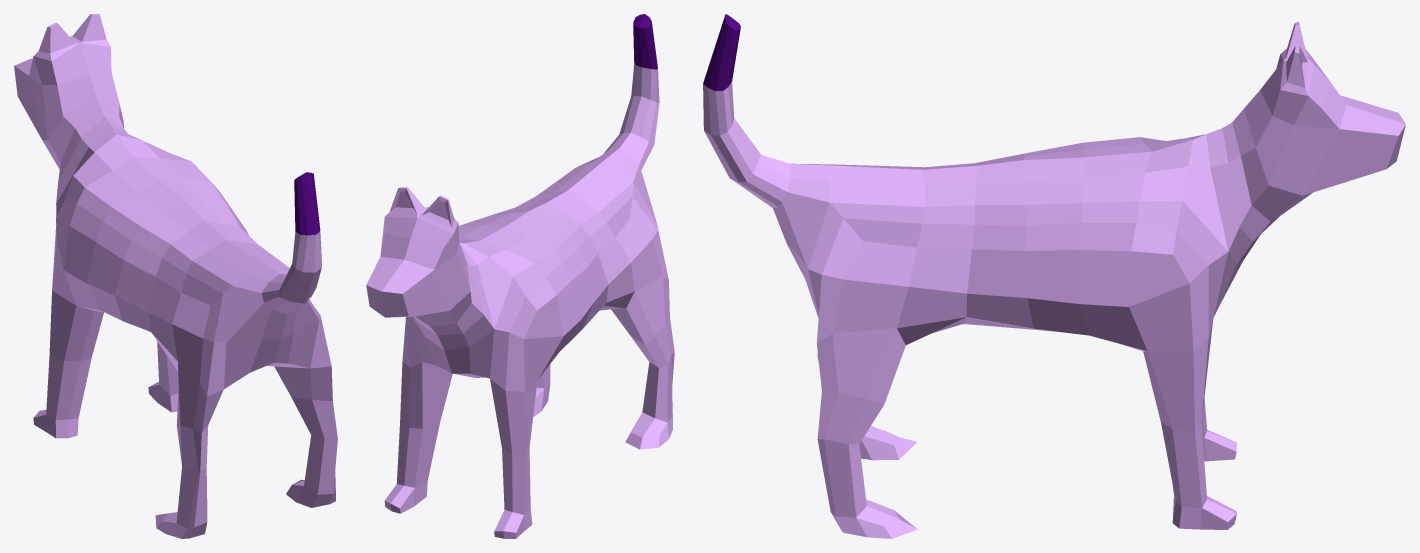
Rendered from Dog.fbx.
3 renders of one model, left to right at view 1: azimuth 30°, elevation 25°; view 2: azimuth 150°, elevation 25°; view 3: azimuth 270°, elevation 25°, orthographic. The views are drawn at different scales.
Visible parts, largest first — view 1: Dog; view 2: Dog; view 3: Dog.
Boxes of the visible parts, x1,y1,x2,y2 form: Dog: (14,14,337,538); Dog: (366,14,674,538); Dog: (703,14,1405,538).
Size of the model in its own units: 0.4082 by 0.9069 by 1.22.
